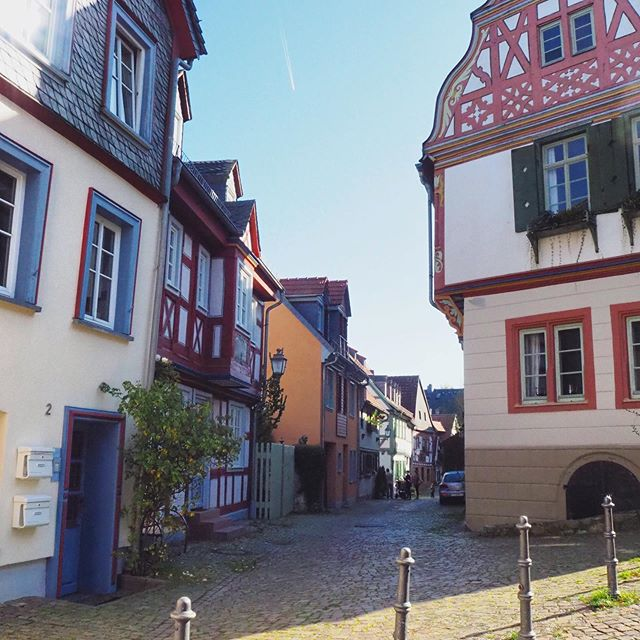building: (1, 5, 189, 605), (433, 5, 640, 525), (144, 171, 271, 552), (268, 272, 356, 513)
car: (433, 472, 472, 510)
sky: (208, 1, 463, 370)
